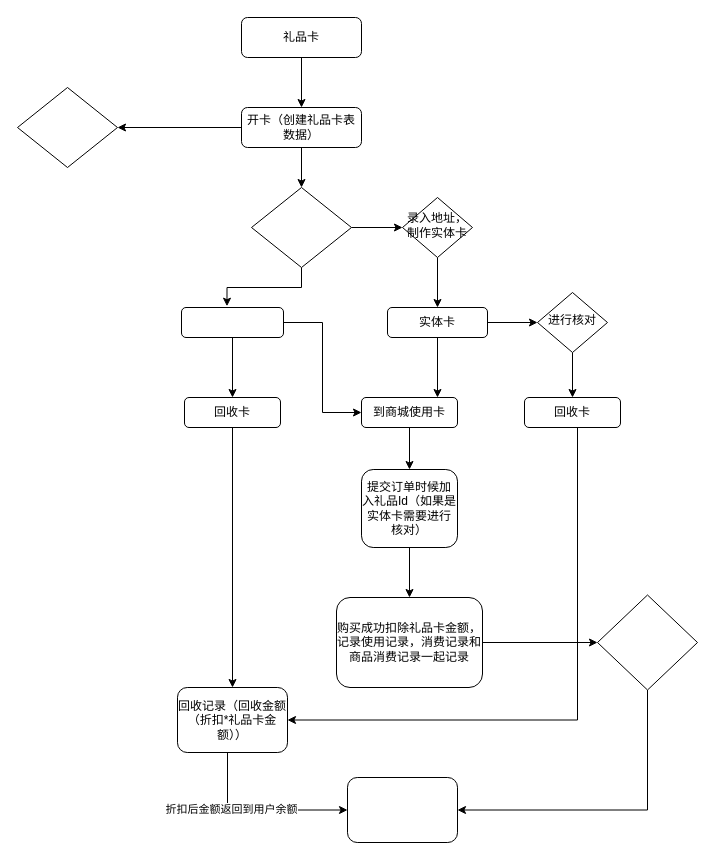
The diagram is 715 pixels wide and 860 high, and some of its shapes have lost their labels. The centre of each missing label's shape, as x and y in pixels:
失效卡: [402,809]
当使用玩礼品卡金额余额变为零: [647,642]
有效时限到期变为无效卡（不返还开卡金额）: [67,127]
电子卡: [232,322]
赠送: [301,227]
